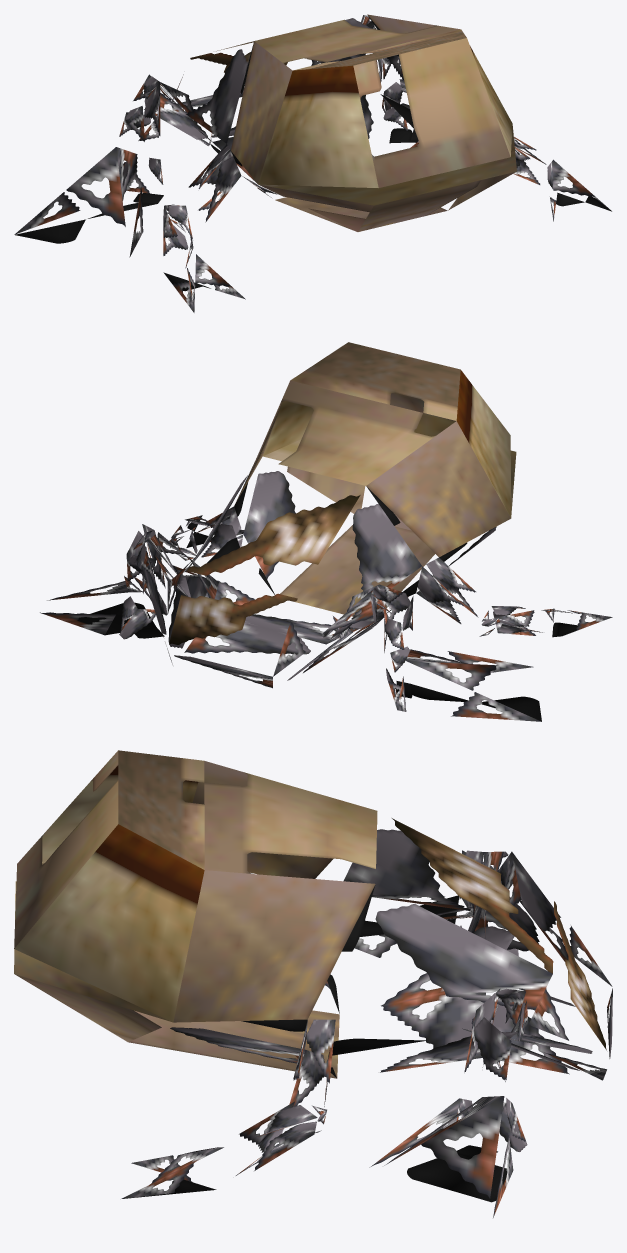
3 views of the same model, one above another, from view 1: azimuth 30°, elevation 25°; view 2: azimuth 150°, elevation 25°; view 3: azimuth 270°, elevation 25° (orthographic). The views are drawn at different scales.
Visible parts, largest first — view 1: T1L3M003_25; view 2: T1L3M003_25; view 3: T1L3M003_25.
Part boxes in pixels (left/top/right/bottom): T1L3M003_25: left=14, top=14, right=611, bottom=312; T1L3M003_25: left=40, top=342, right=612, bottom=721; T1L3M003_25: left=14, top=750, right=612, bottom=1217.
Bounding box in the file's own units: 1.26 × 0.4966 × 0.9313.
